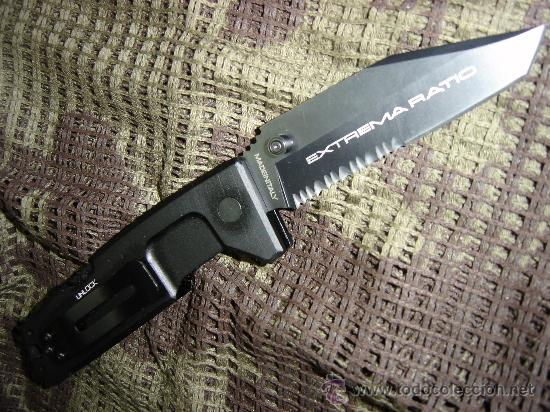knife: (222, 20, 548, 219)
